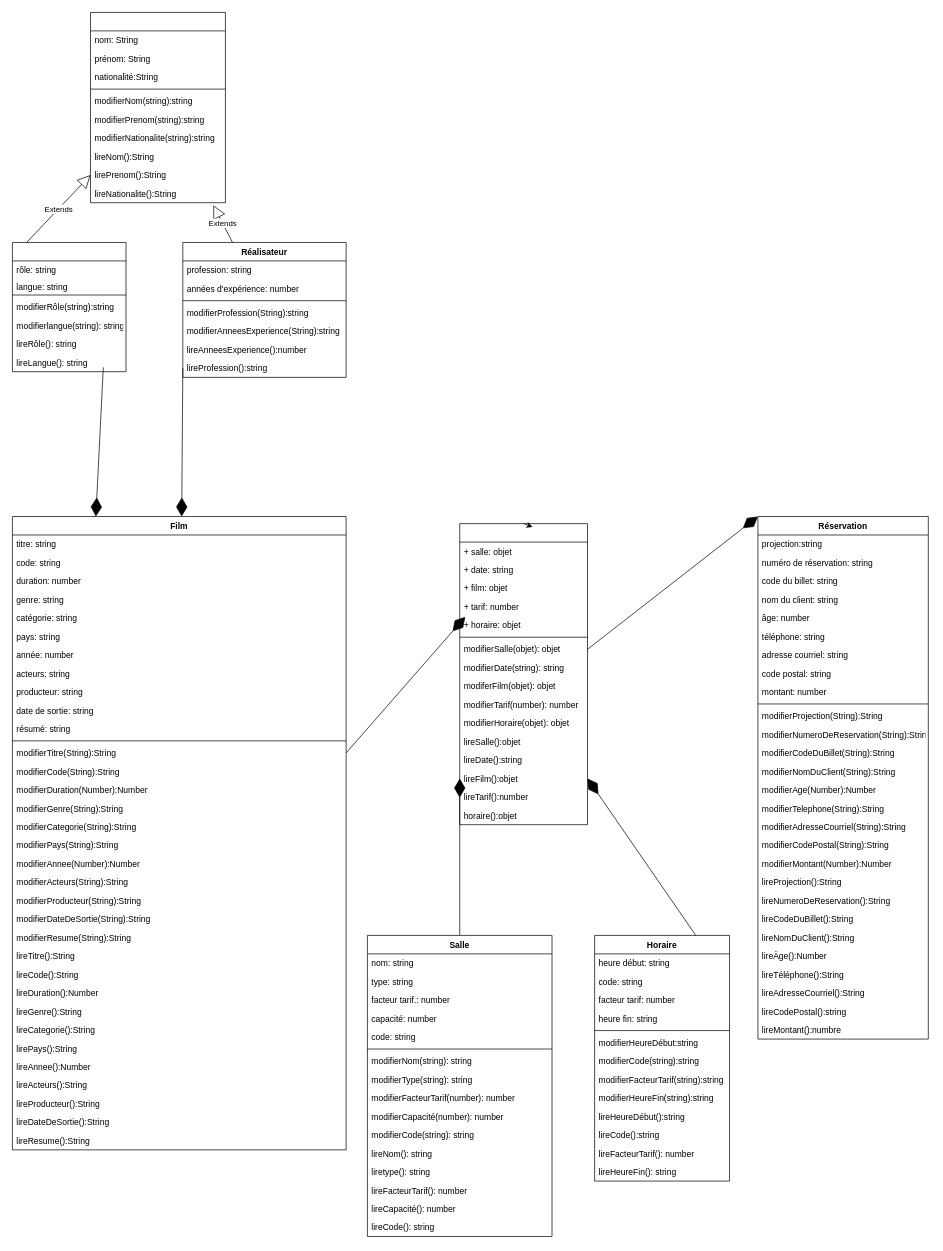
Image size: 943x1251. Some labels were removed from this diagram. The shapes that lost their labels are listed below. From the top down, each one's box as (x1, y1, x2, y2) in pixels, then its label:
(90, 12, 225, 203): Artiste
(12, 242, 126, 372): Acteur
(459, 523, 588, 825): Projection
